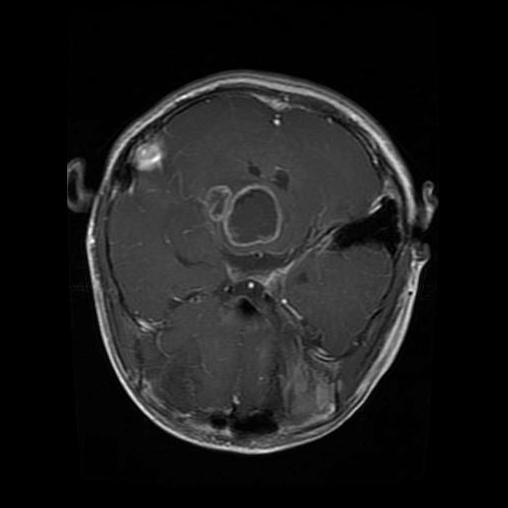Tumour-Glioma: (210, 173, 282, 254)
